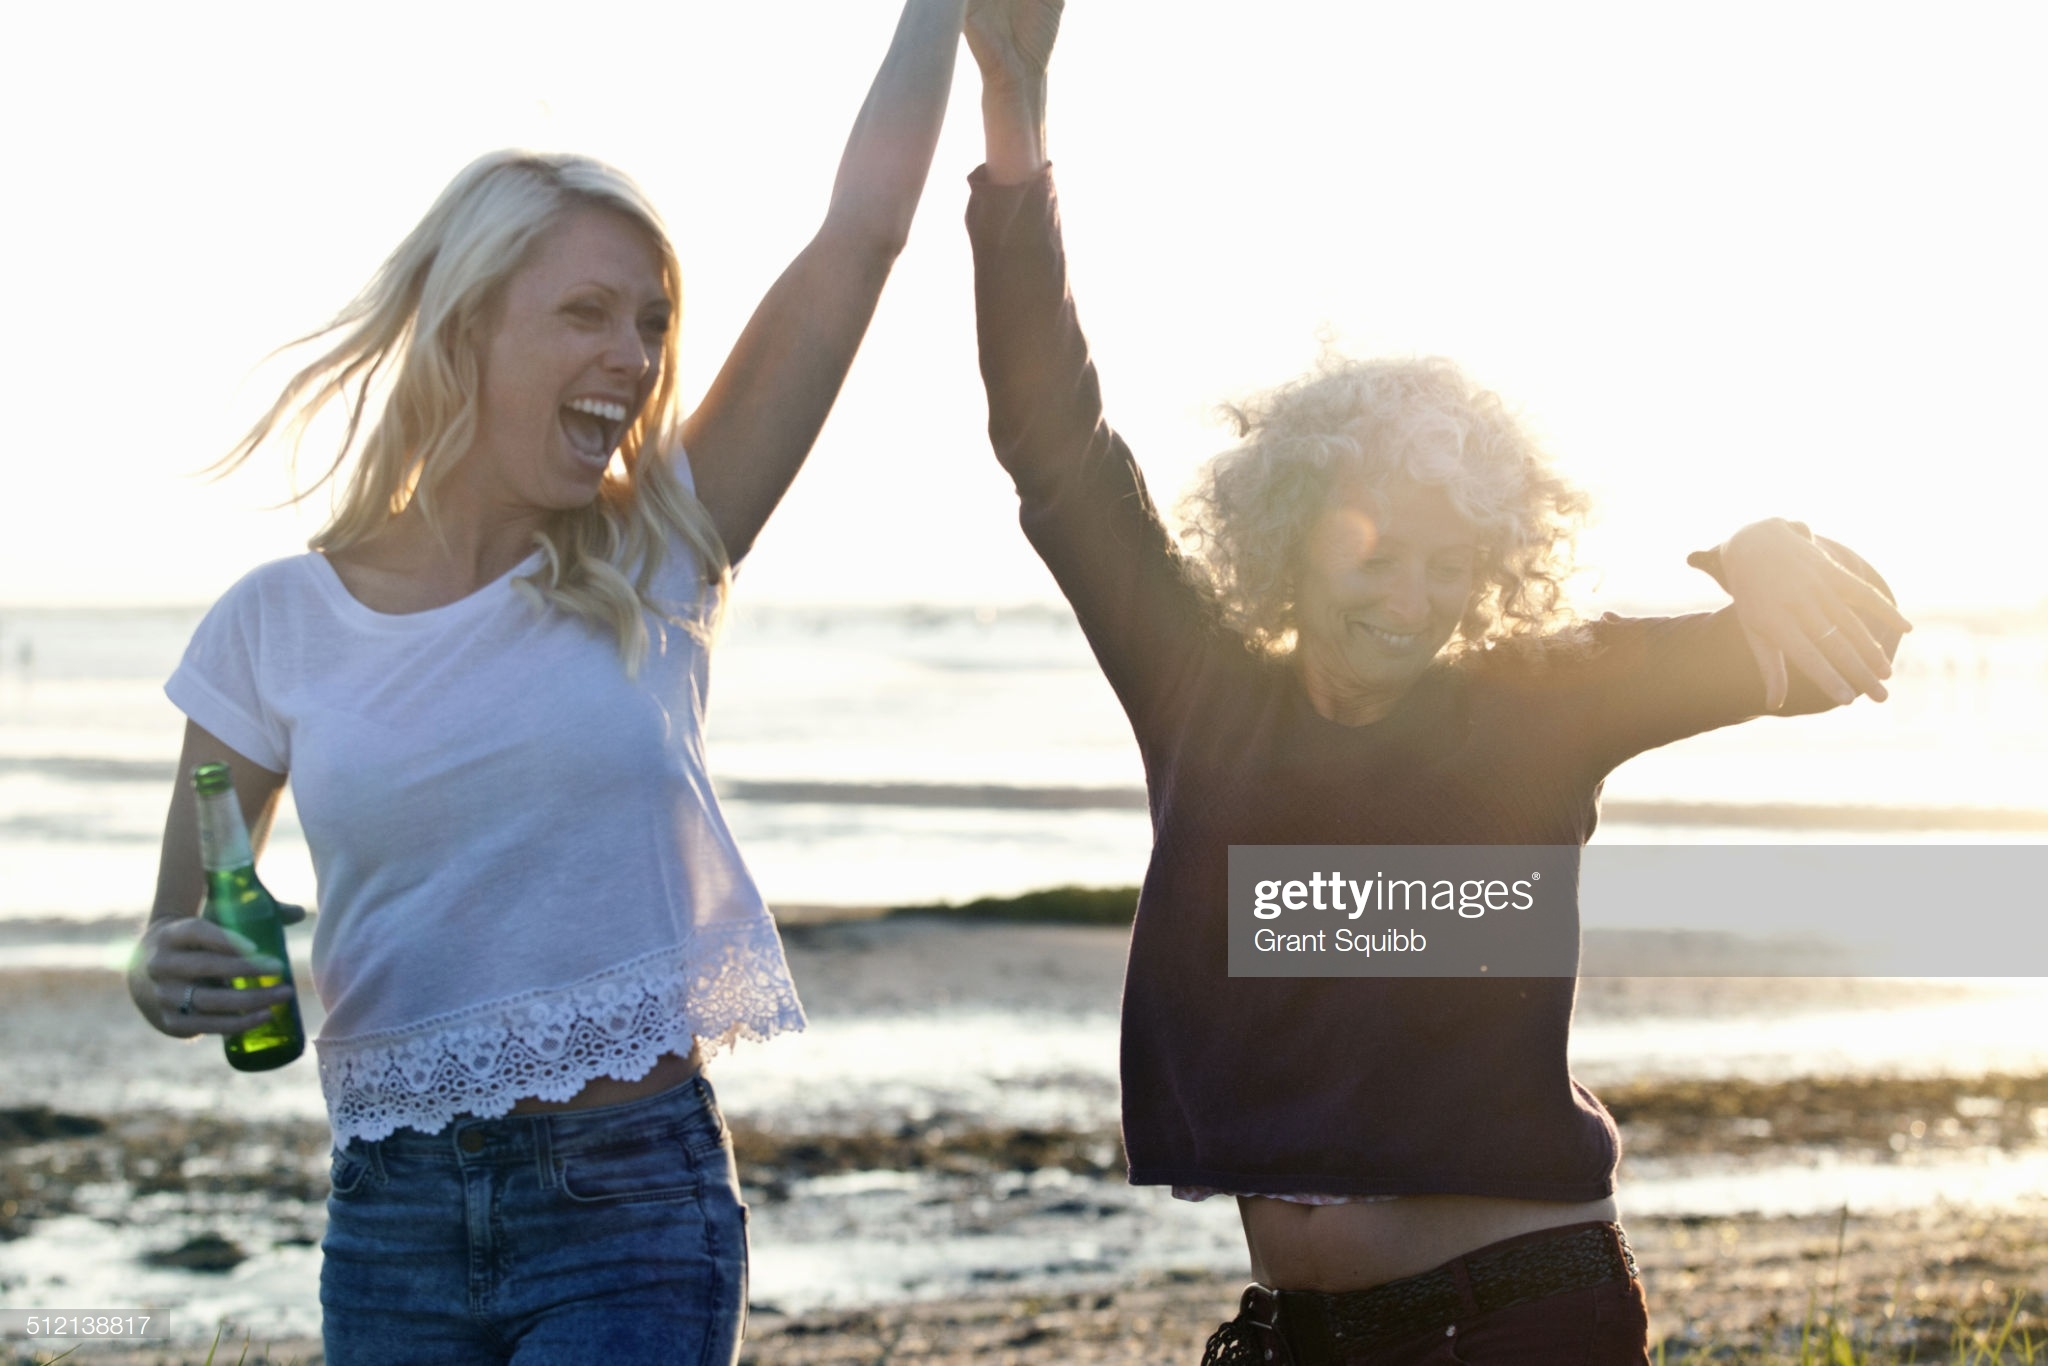beerBottle: (189, 758, 311, 1064)
